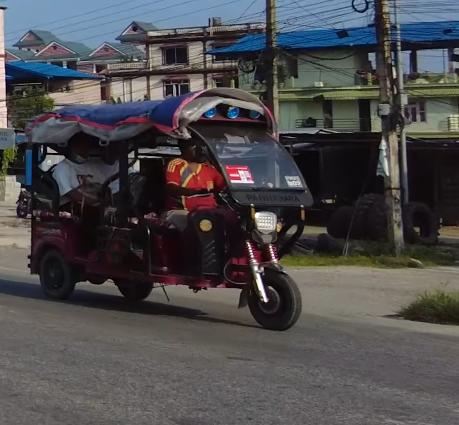e-rickshaw: (10, 97, 314, 336)
